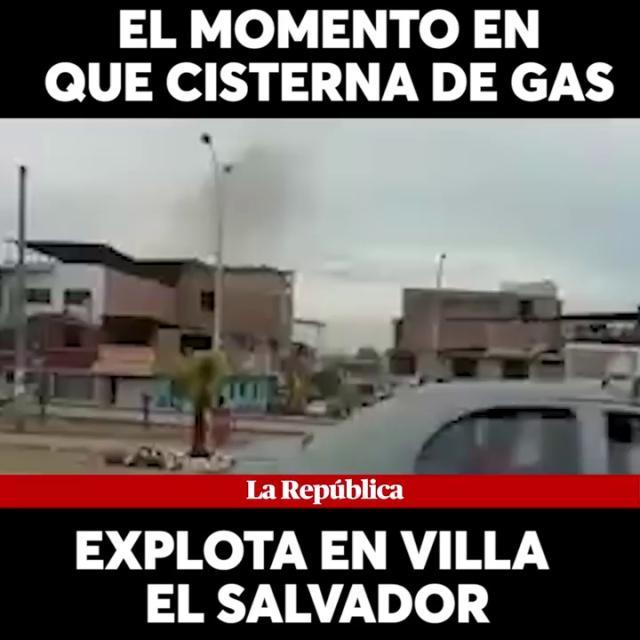Smoke: (167, 122, 312, 278)
